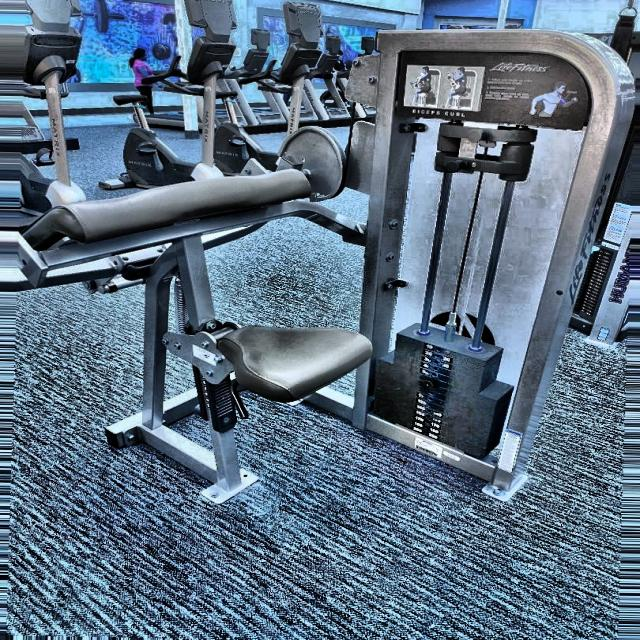bicep_curl_machine: (1, 42, 389, 506), (396, 48, 590, 133)
